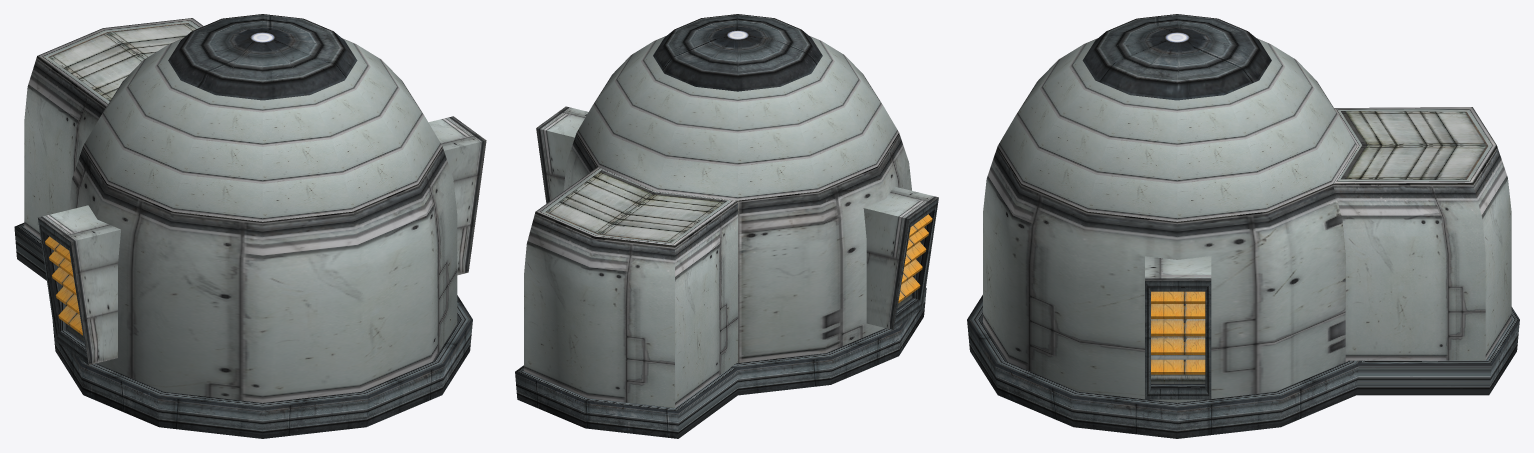
Rendered from redonda1.fbx.
3 renders of one model, left to right at view 1: azimuth 30°, elevation 25°; view 2: azimuth 150°, elevation 25°; view 3: azimuth 270°, elevation 25°, orthographic. The views are drawn at different scales.
Parts seen in each view (by area): view 1: Icosphere.000; view 2: Icosphere.000; view 3: Icosphere.000.
Boxes of the visible parts, x1=… form: Icosphere.000: x1=14, y1=14, x2=486, y2=438; Icosphere.000: x1=515, y1=14, x2=938, y2=438; Icosphere.000: x1=967, y1=14, x2=1519, y2=438.
Bounding box in the file's own units: 8.13 × 5.86 × 9.36.
